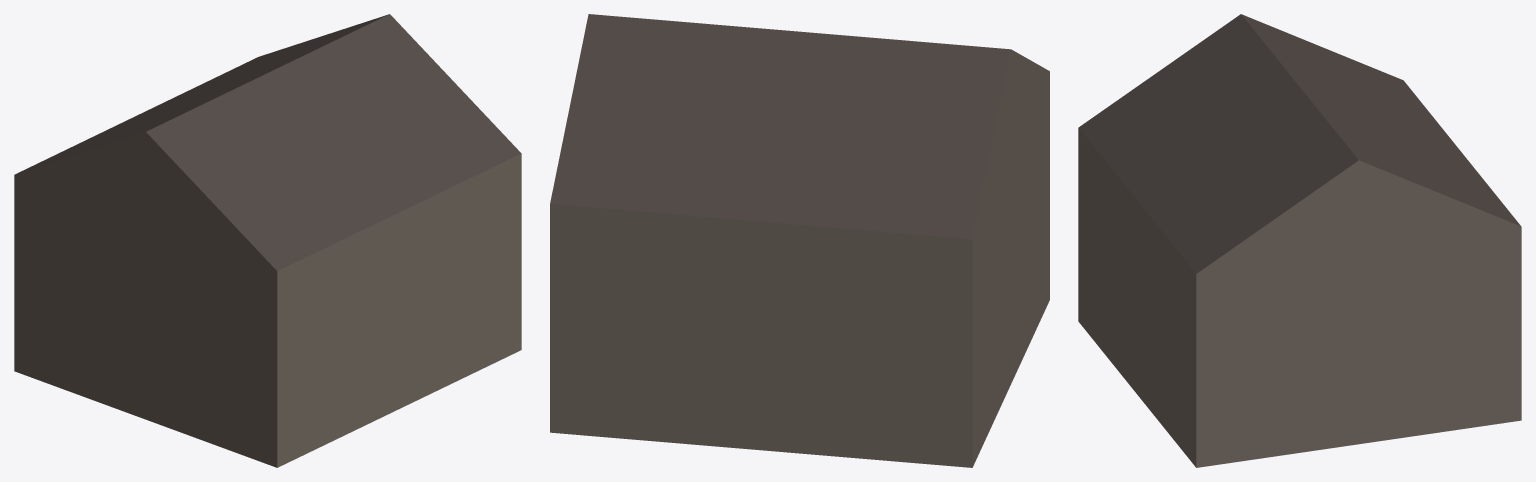
3 renders of one model, left to right at view 1: azimuth 30°, elevation 25°; view 2: azimuth 150°, elevation 25°; view 3: azimuth 270°, elevation 25°, orthographic. The views are drawn at different scales.
Visible parts, largest first — view 1: HP-w1198840876; view 2: HP-w1198840876; view 3: HP-w1198840876.
Boxes of the visible parts, x1,y1,x2,y2 form: HP-w1198840876: (14,14,521,467); HP-w1198840876: (550,14,1049,467); HP-w1198840876: (1078,14,1521,467).
Bounding box in the file's own units: 12.84 × 8.78 × 12.42.
